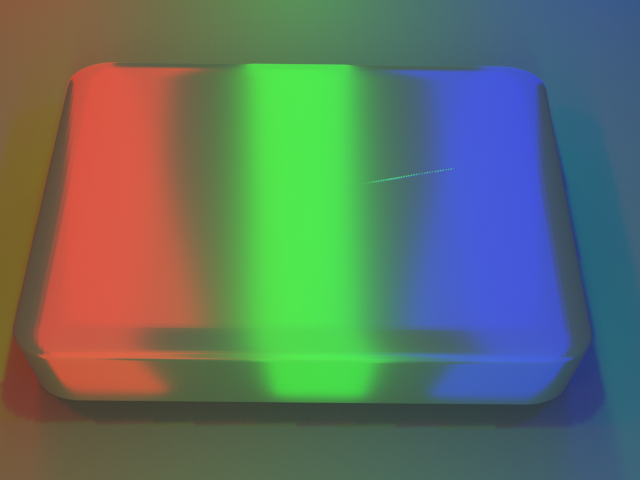scratch: (271, 84, 586, 260)
